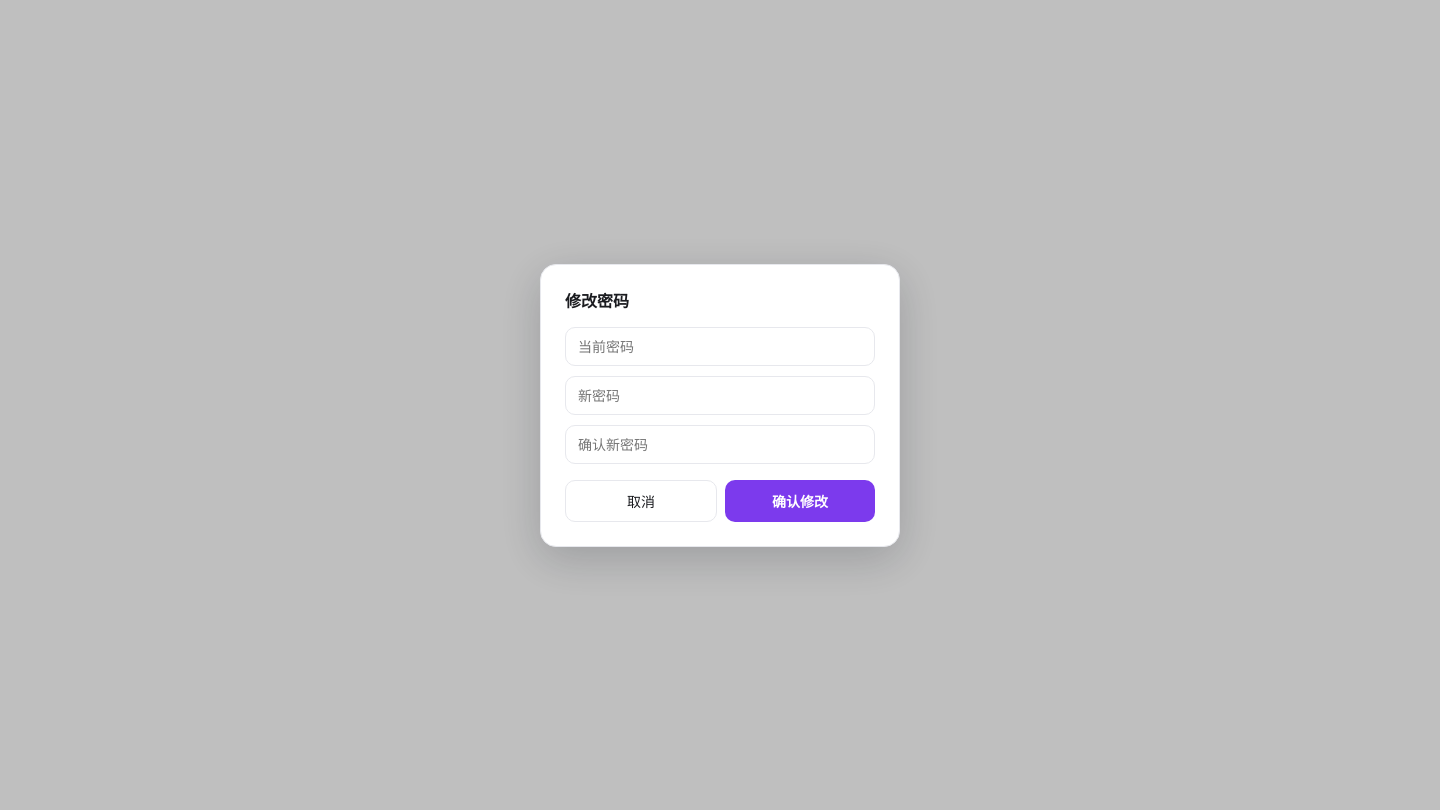
Scenario: ChangePasswordDialog › 后端 403 → 显示"当前密码不正确"
Type "bad" into the password field with placeholder "当前密码" at (720, 346), box [565, 326, 875, 366]
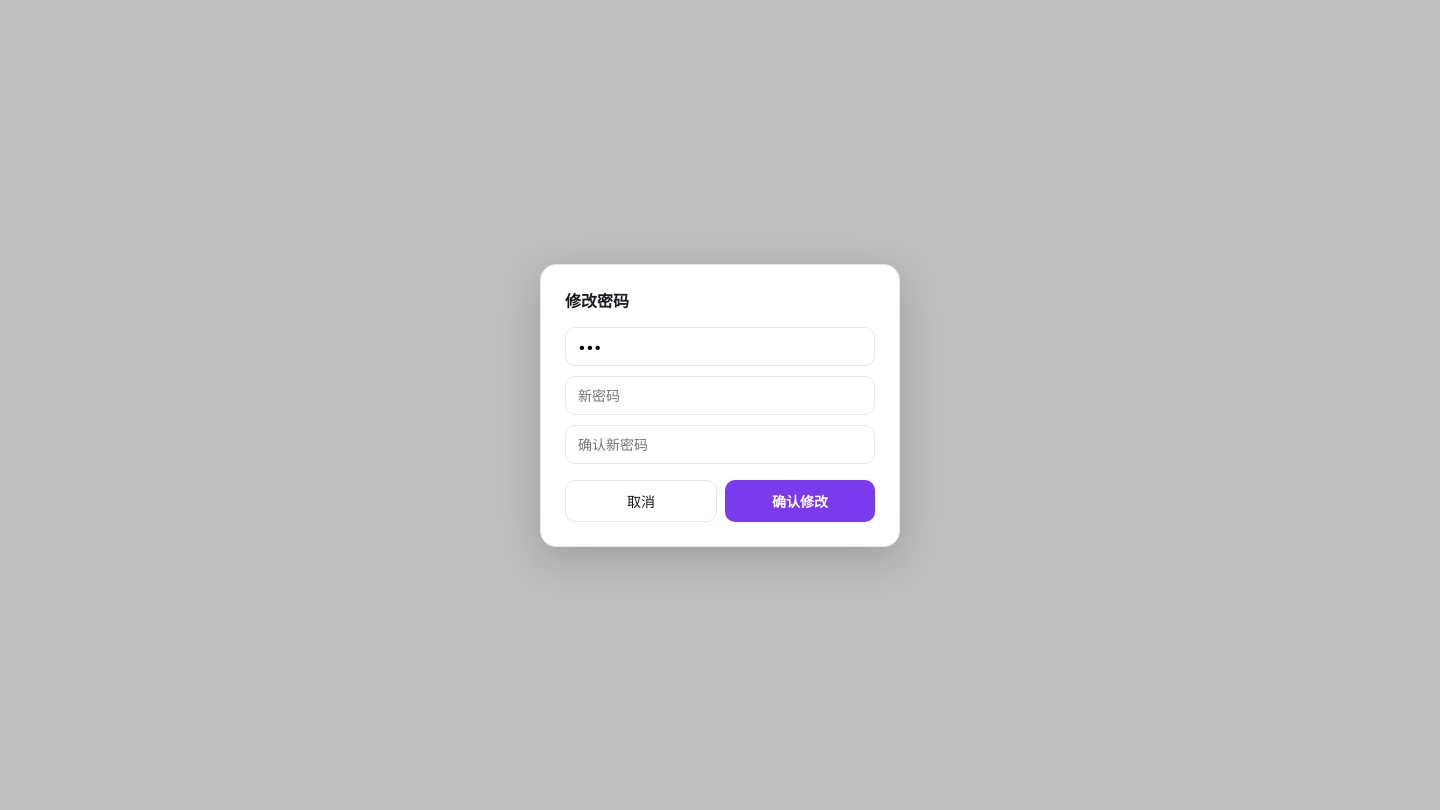
Type "newpass12" into the password field with placeholder "新密码" at (720, 395), box [565, 376, 875, 414]
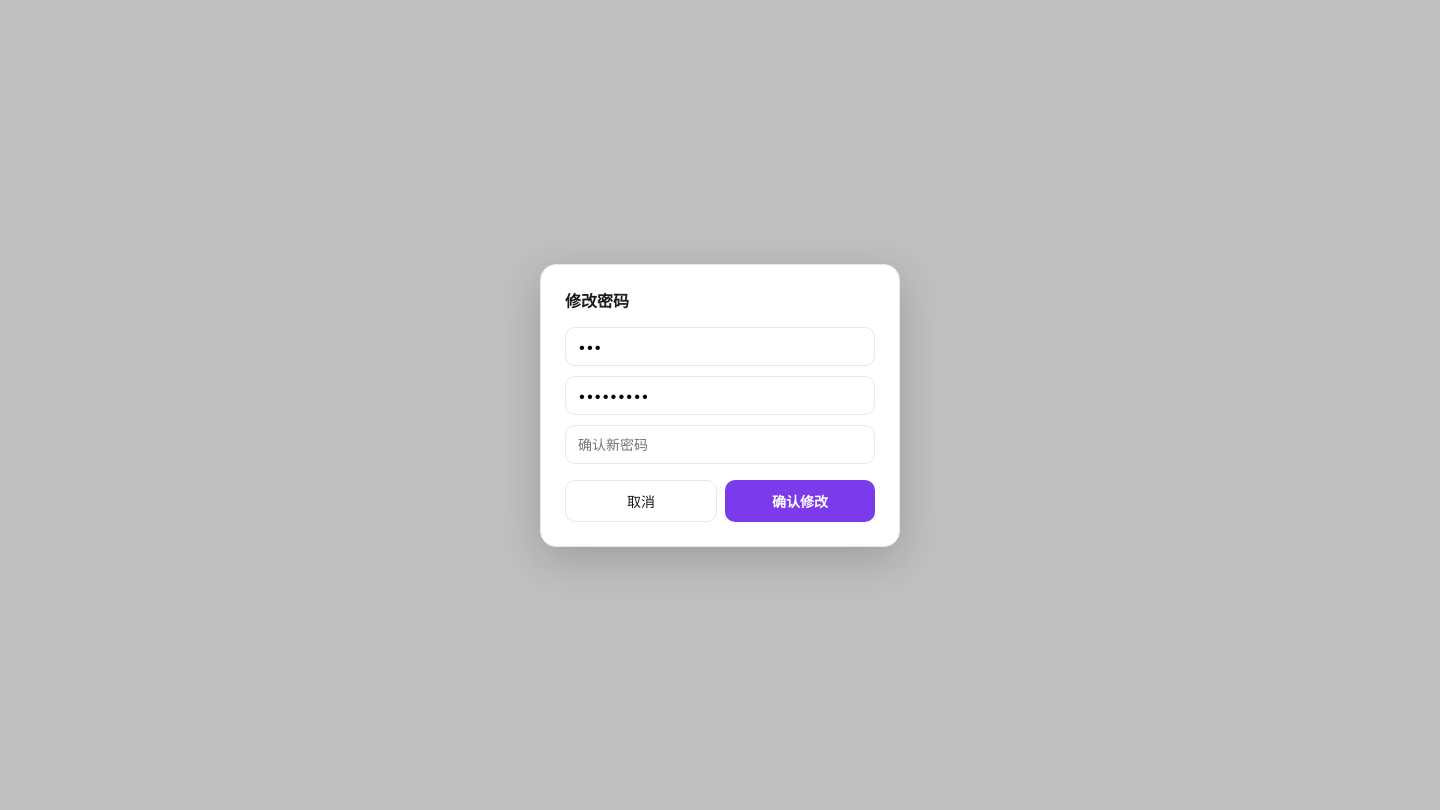
Type "newpass12" into the password field with placeholder "确认新密码" at (720, 444), box [565, 424, 875, 464]
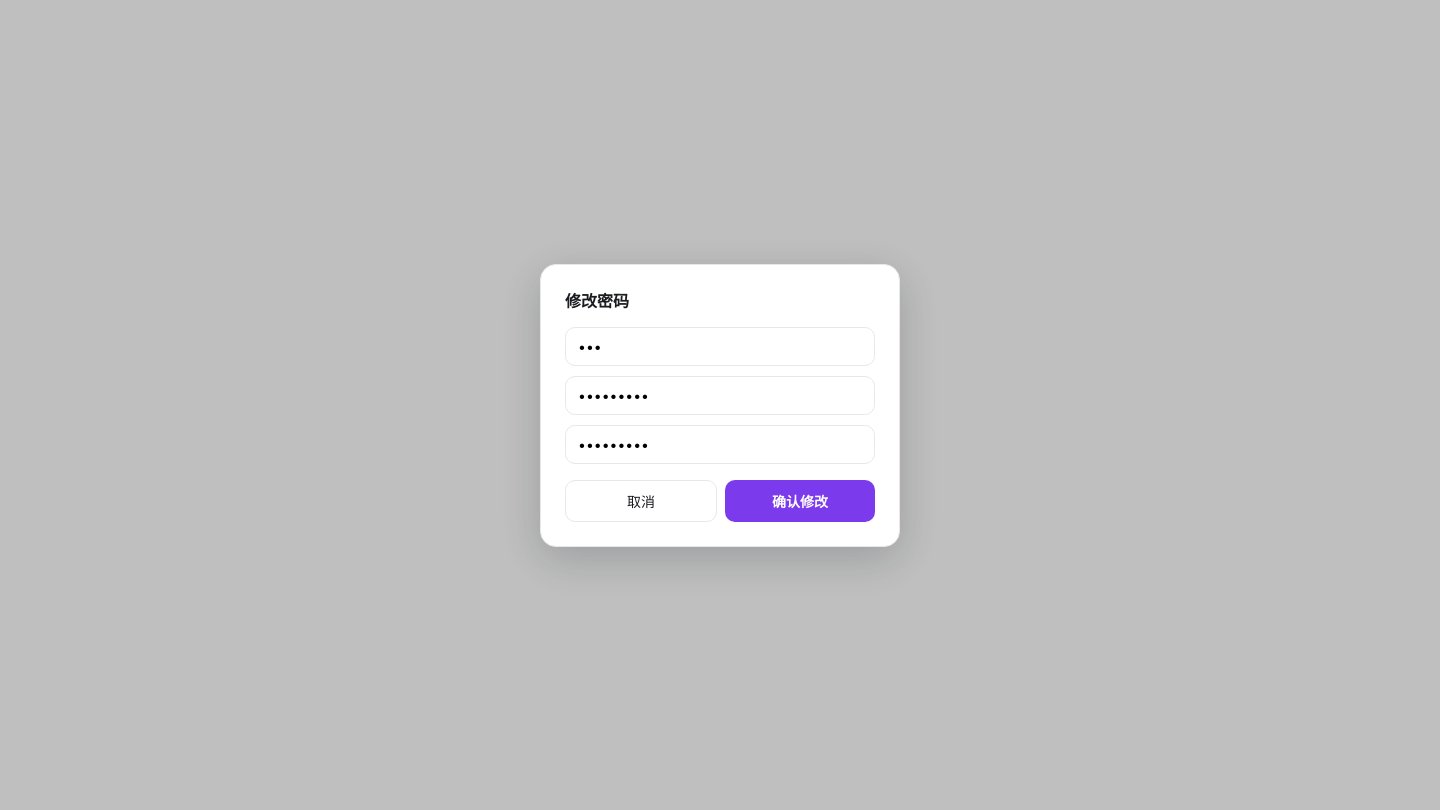
Click the button "确认修改" at (800, 500), box [725, 480, 875, 522]
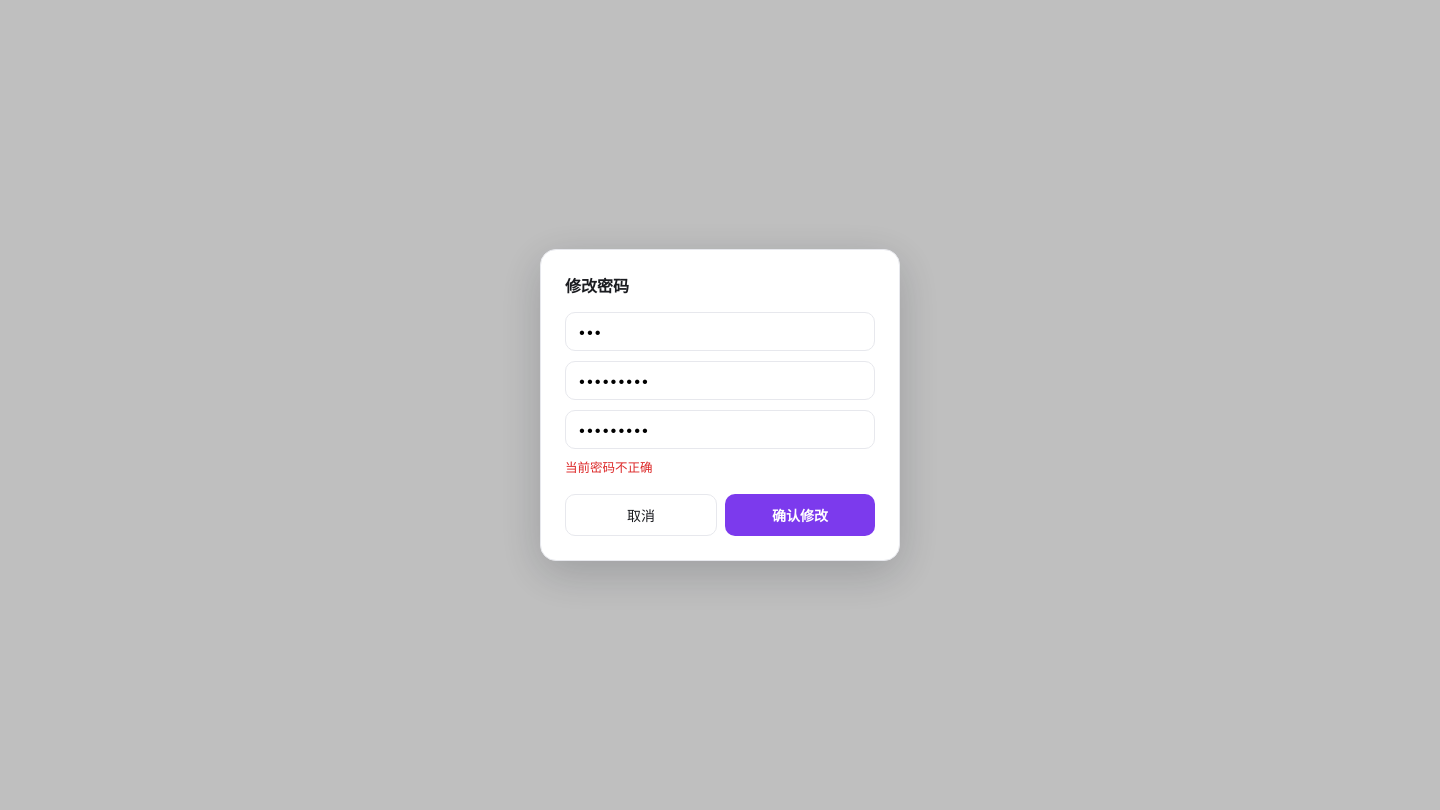
Result: the text "当前密码不正确" is shown at [565, 460, 652, 475]
